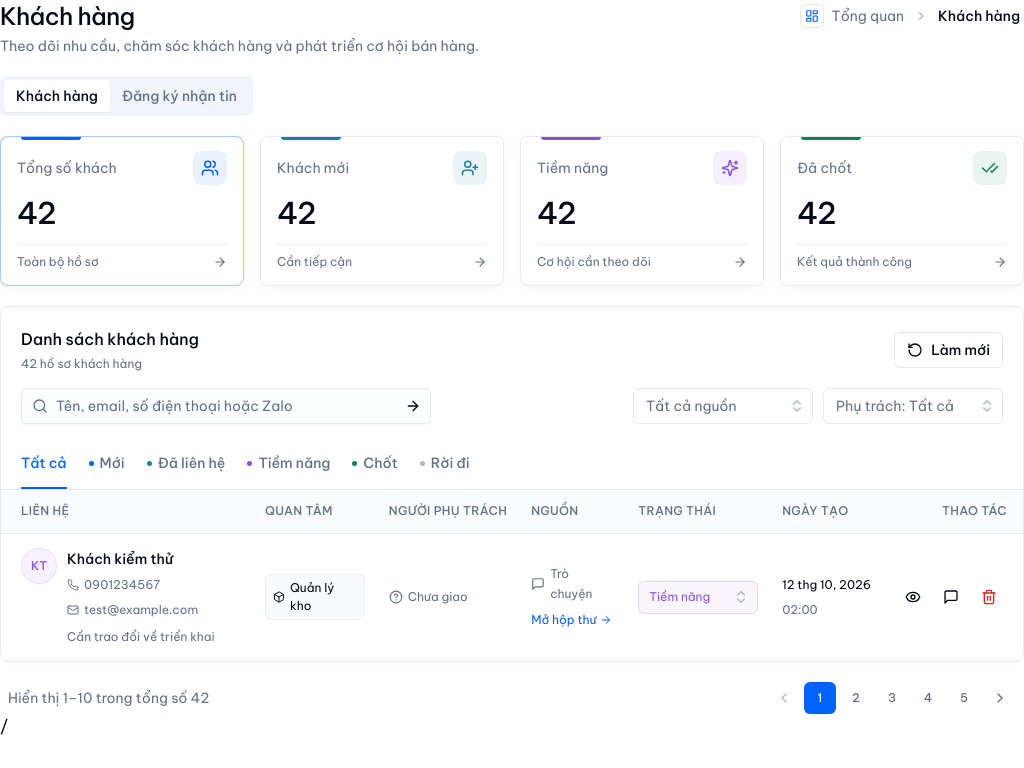
Test: CRM lead workspace › updates status through the existing endpoint and refreshes the list
Click the dropdown labelled "Tiềm năng" at (698, 597), box [639, 582, 757, 612]
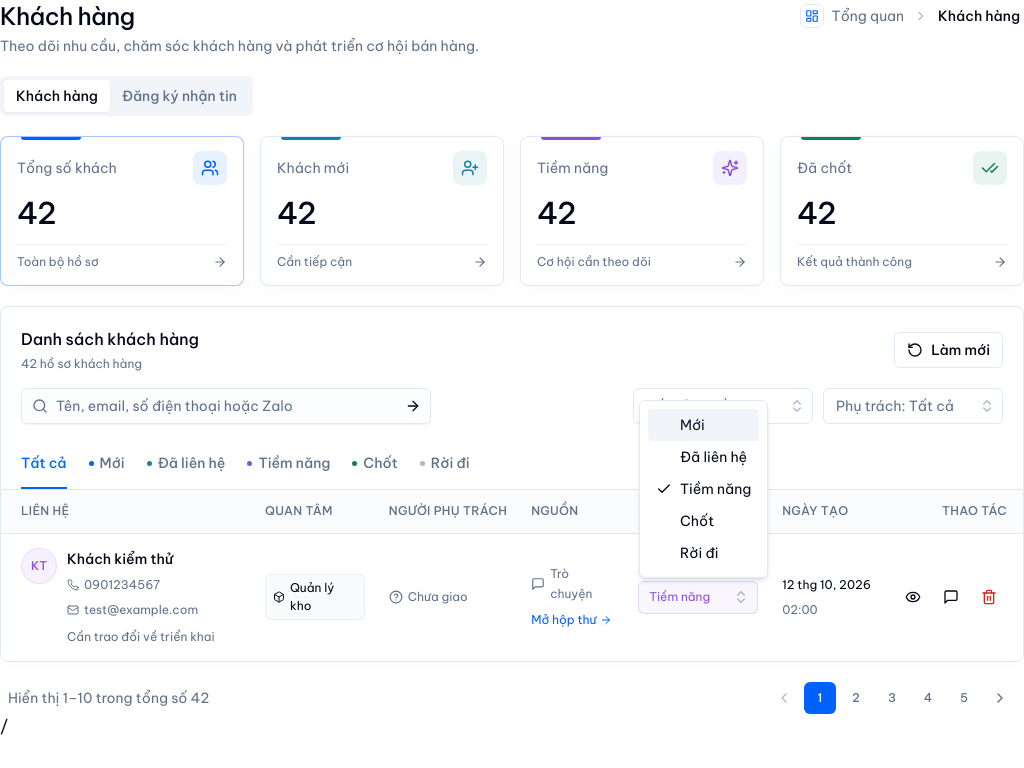
Click the option "Chốt" at (697, 521), box [680, 512, 714, 530]
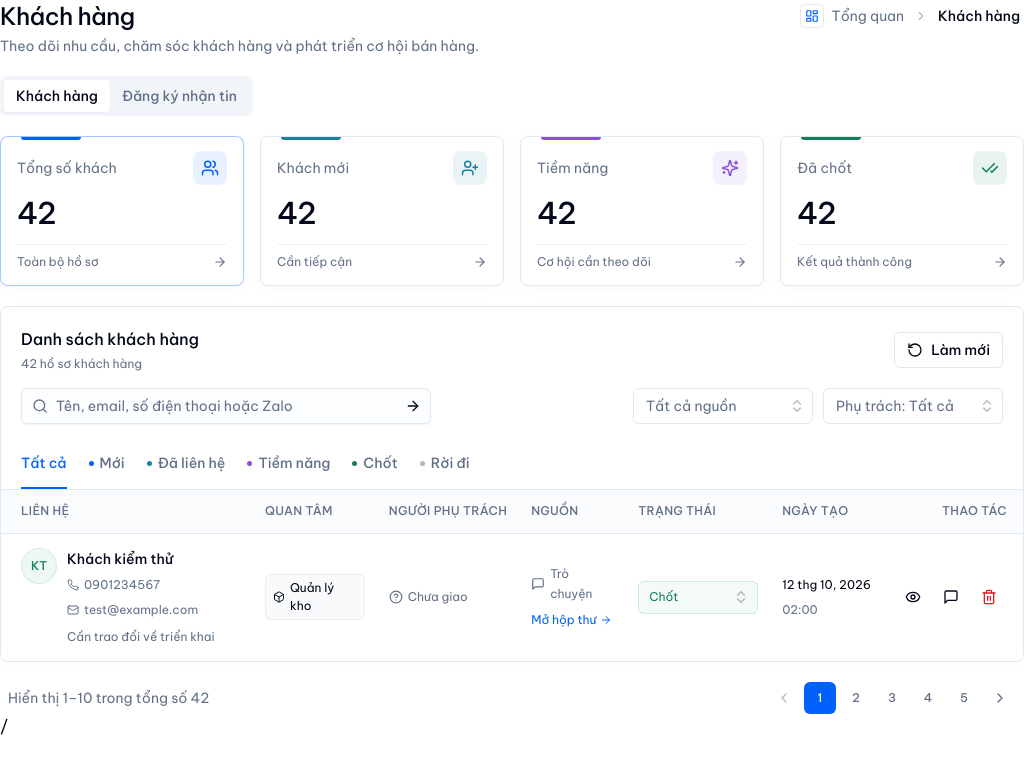
Check: the dropdown labelled "Chốt" is shown, box [639, 582, 757, 612]
